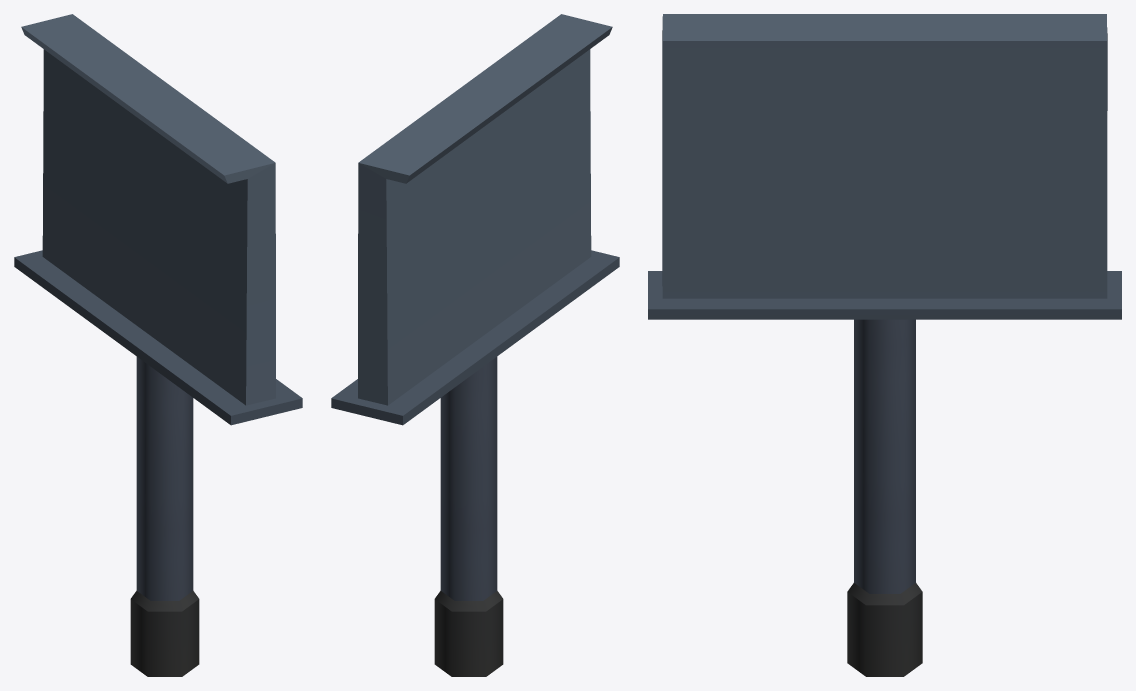
File: Bilboard_2_C.glb
3 views of the same model, side by side, from view 1: azimuth 30°, elevation 25°; view 2: azimuth 150°, elevation 25°; view 3: azimuth 270°, elevation 25° (orthographic). The views are drawn at different scales.
Visible parts, largest first — view 1: Bilboard_2_C; view 2: Bilboard_2_C; view 3: Bilboard_2_C.
Part boxes in pixels (bbox=[...]): Bilboard_2_C: bbox=[14, 14, 302, 676]; Bilboard_2_C: bbox=[331, 14, 619, 676]; Bilboard_2_C: bbox=[648, 14, 1121, 676].
Bounding box in the file's own units: 0.8053 × 6.15 × 4.21.
2 materials, 2 textured.
